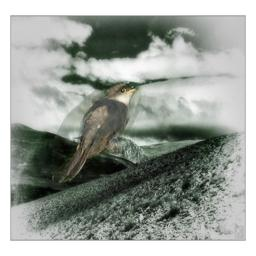Cuckoo: (52, 82, 141, 186)
